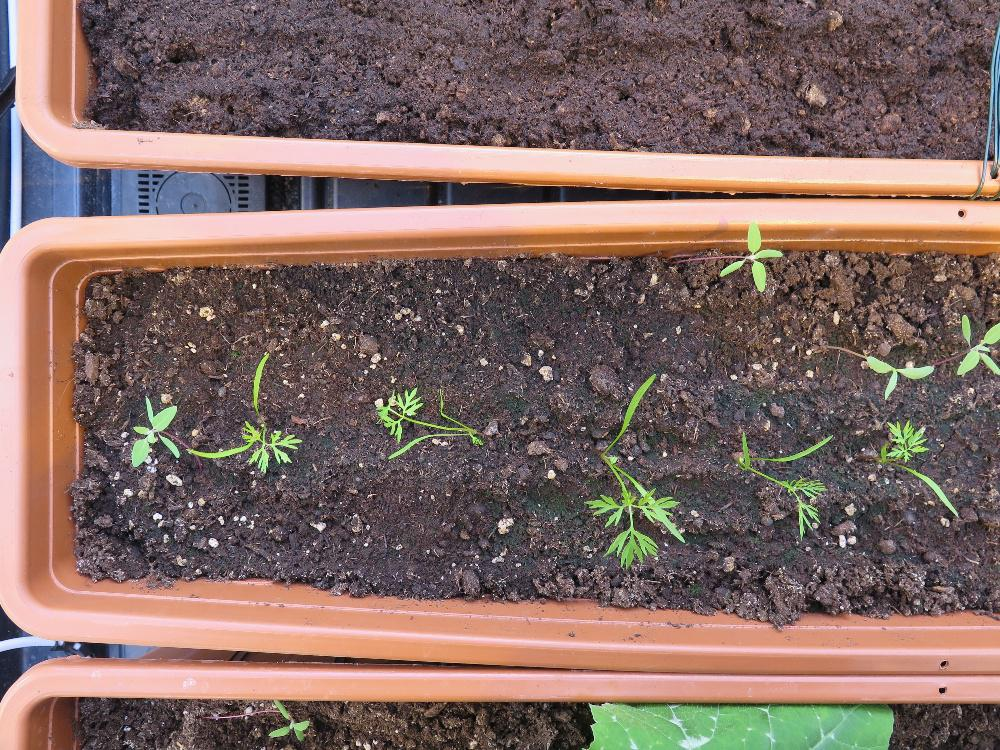crop: (580, 370, 687, 568), (183, 346, 300, 475), (733, 428, 836, 543), (372, 382, 485, 459), (876, 417, 959, 517)
weed: (718, 219, 782, 294), (128, 390, 178, 467), (864, 354, 934, 402), (265, 696, 310, 741)
